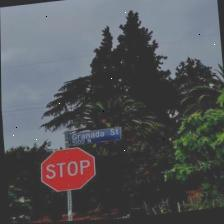Stop: (38, 145, 96, 195)
